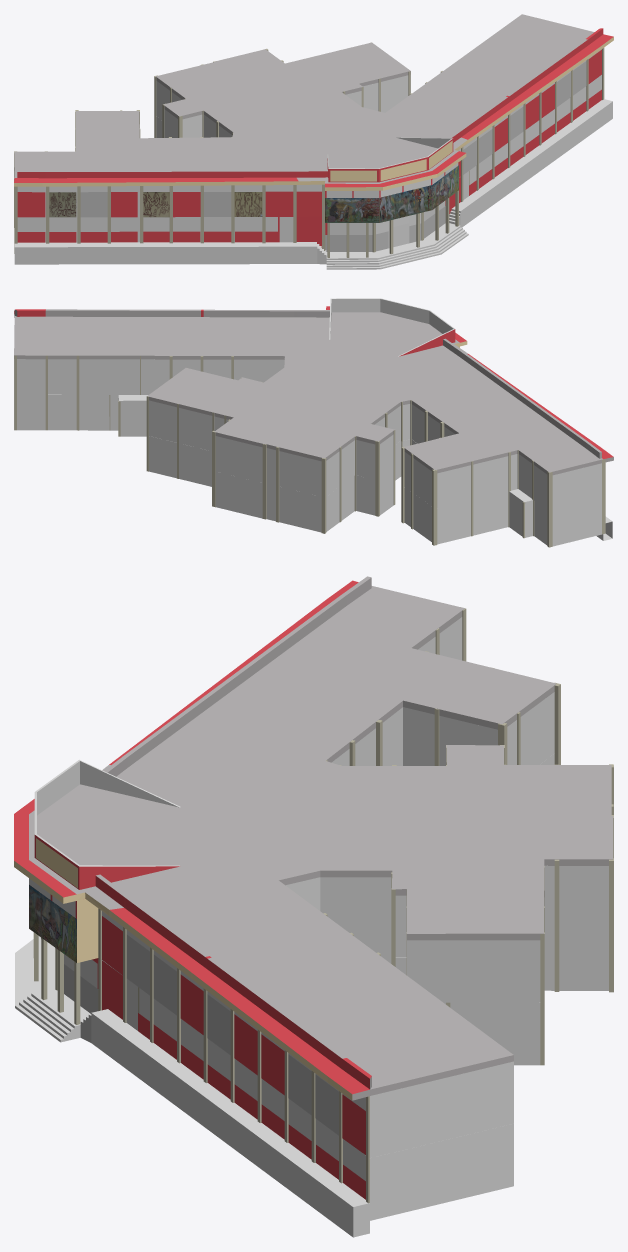
The model's file is Central.fbx.
3 views of the same model, one above another, from view 1: azimuth 30°, elevation 25°; view 2: azimuth 150°, elevation 25°; view 3: azimuth 270°, elevation 25° (orthographic). The views are drawn at different scales.
Visible parts, largest first — view 1: Pared2, Gradas, Pared1, Pilares; view 2: Pared2, Pared1, Pilares, Piso1; view 3: Pared2, Pared1, Gradas, Pilares.
Part boxes in pixels (<box>): Pared2: <box>14,14,613,222</box>; Gradas: <box>14,99,612,269</box>; Pared1: <box>17,75,601,251</box>; Pilares: <box>14,48,604,257</box>; Pared2: <box>14,298,613,510</box>; Pared1: <box>14,394,601,546</box>; Pilares: <box>14,355,605,547</box>; Piso1: <box>62,394,601,546</box>; Pared2: <box>14,576,613,1157</box>; Pared1: <box>64,754,608,1220</box>; Gradas: <box>15,936,369,1237</box>; Pilares: <box>33,607,613,1203</box>.
Size of the model in its own units: 3534 by 536 by 1744.
